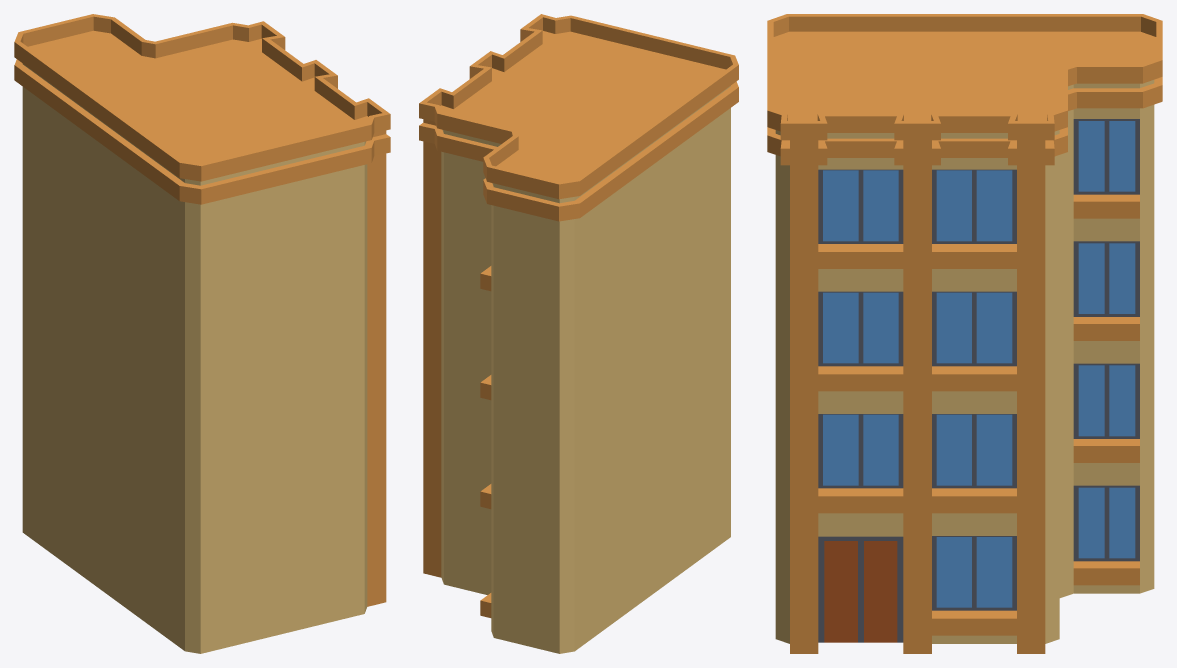
3 views of the same model, side by side, from view 1: azimuth 30°, elevation 25°; view 2: azimuth 150°, elevation 25°; view 3: azimuth 270°, elevation 25° (orthographic). The views are drawn at different scales.
Visible parts, largest first — view 1: Predio 9.002; view 2: Predio 9.002; view 3: Predio 9.002.
Boxes of the visible parts, box(x1,y1,x2,y2) form: Predio 9.002: box(14, 14, 390, 653); Predio 9.002: box(419, 14, 738, 653); Predio 9.002: box(767, 14, 1162, 653).
Size of the model in its own units: 4243 by 9570 by 6461.
